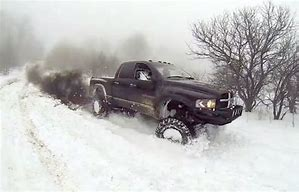smoke: (23, 48, 96, 104)
